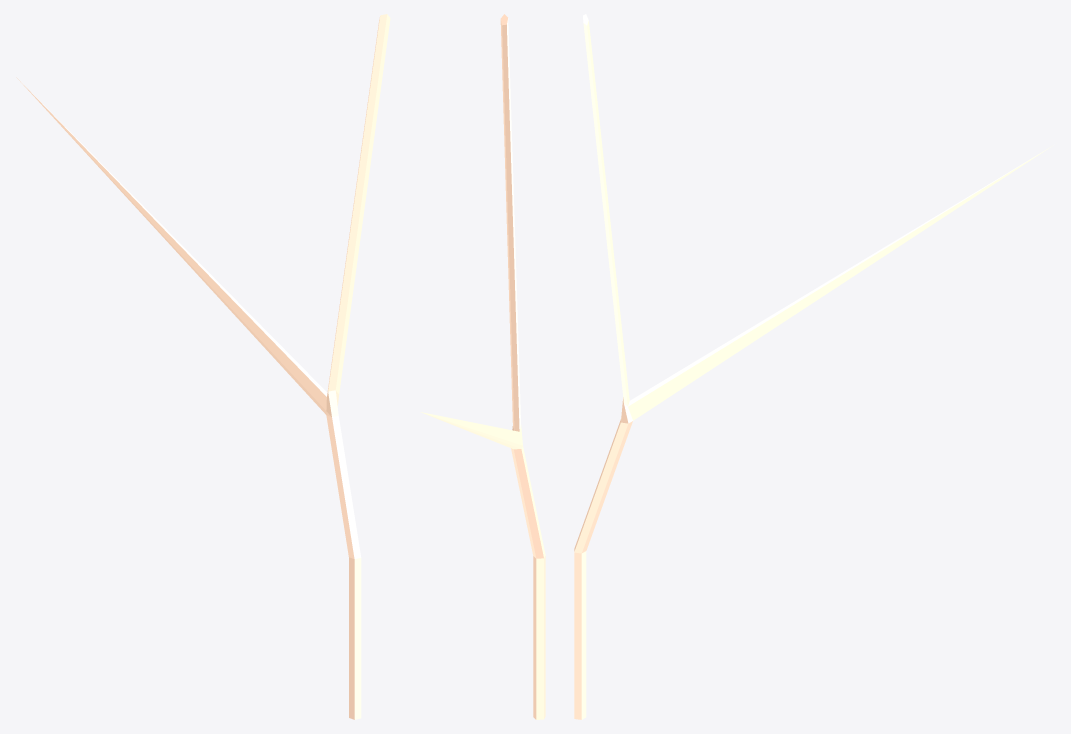
The model's file is branche2.glb.
3 views of the same model, side by side, from view 1: azimuth 30°, elevation 25°; view 2: azimuth 150°, elevation 25°; view 3: azimuth 270°, elevation 25° (orthographic). The views are drawn at different scales.
Visible parts, largest first — view 1: Cylinder; view 2: Cylinder; view 3: Cylinder.
Boxes of the visible parts, bbox=[...] form: Cylinder: bbox=[16, 14, 390, 719]; Cylinder: bbox=[420, 14, 545, 719]; Cylinder: bbox=[574, 14, 1053, 719].
Bounding box in the file's own units: 0.5978 × 2.69 × 1.64.
